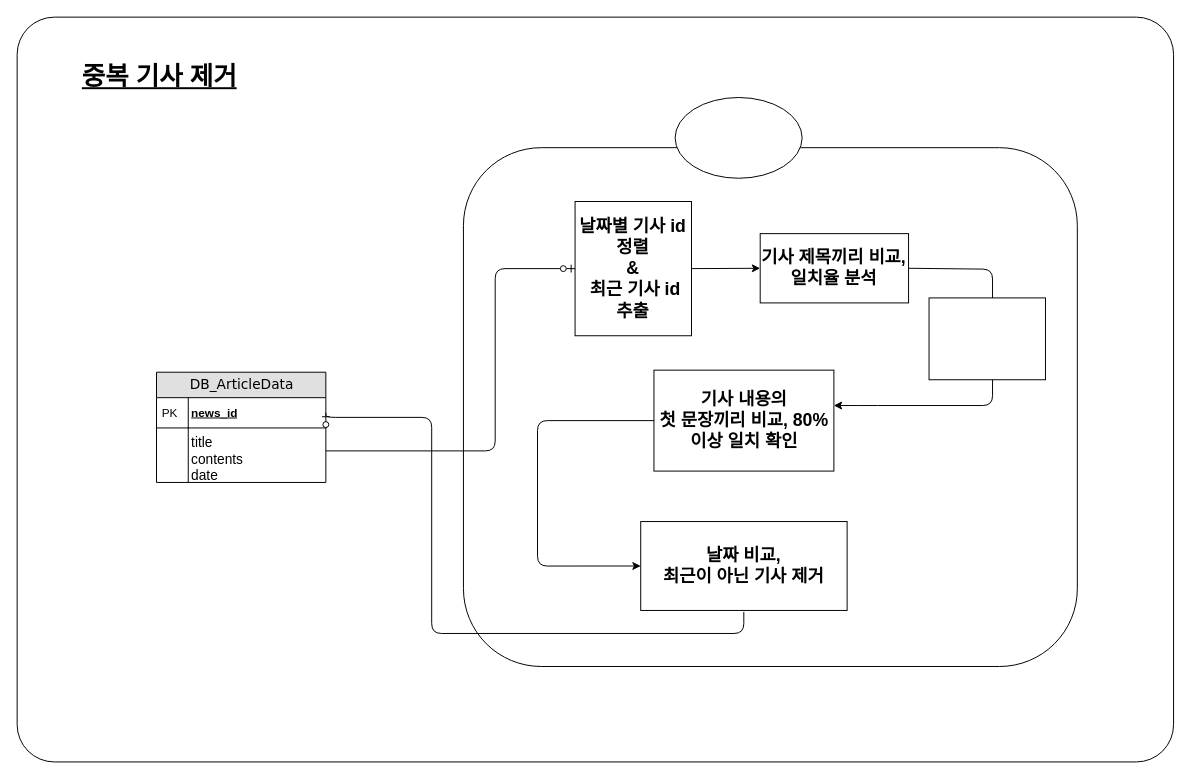
Some shapes in this 1191 by 779 pixel diagram are drawn without their labels. The centre of each missing label's shape, as x and y in pixels:
"80%이상 일치시" goes at pixel 986 338.
"R Studio" goes at pixel 738 137.
